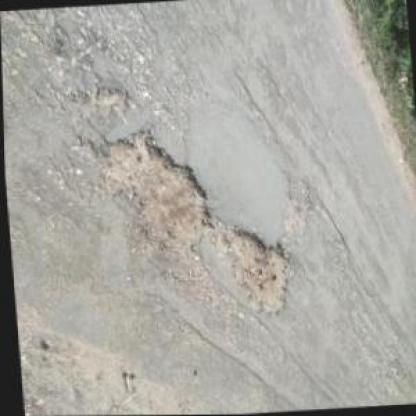pothole: (100, 128, 212, 266), (218, 221, 296, 323), (90, 83, 128, 119)
